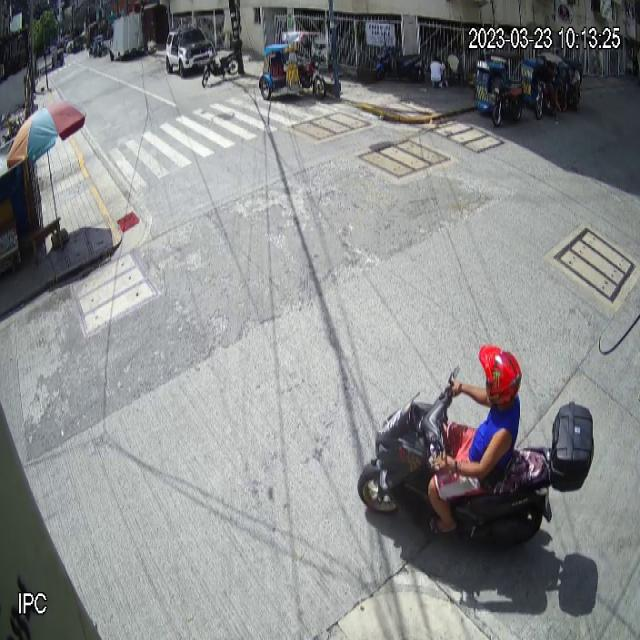Motorcycle: (356, 362, 594, 561)
Tricycle: (257, 22, 330, 103), (472, 50, 528, 130)
